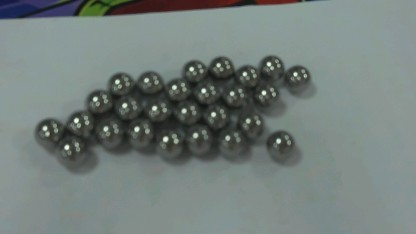ironball: (233, 110, 269, 138), (154, 126, 186, 157), (55, 134, 87, 164), (104, 66, 137, 95), (96, 118, 131, 145), (32, 116, 64, 145), (178, 55, 209, 84), (265, 128, 292, 158), (134, 68, 165, 94), (170, 96, 198, 124), (258, 51, 284, 81), (200, 100, 230, 125), (218, 128, 245, 155), (252, 83, 280, 109), (284, 64, 313, 88), (190, 77, 220, 100), (210, 51, 236, 77), (141, 96, 168, 121), (185, 126, 210, 152), (127, 117, 150, 145), (65, 111, 94, 132), (111, 93, 138, 115), (235, 63, 259, 87), (86, 87, 111, 110), (225, 82, 246, 107), (162, 78, 188, 98)
